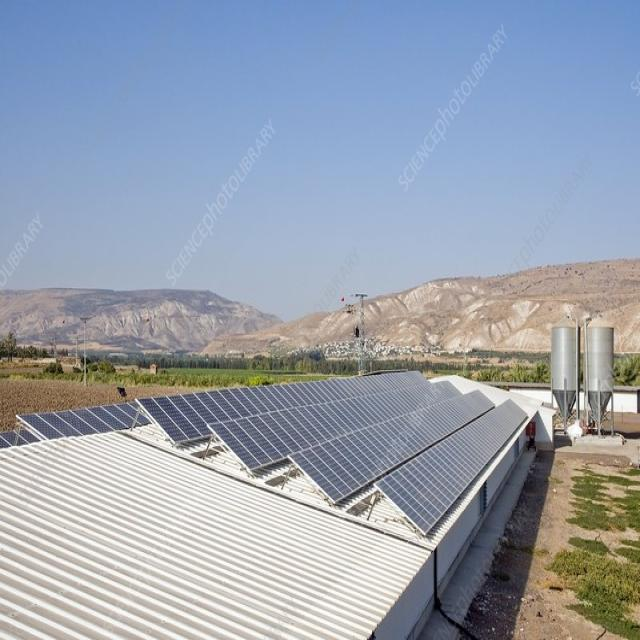clean-solar-panel: (138, 371, 526, 535)
